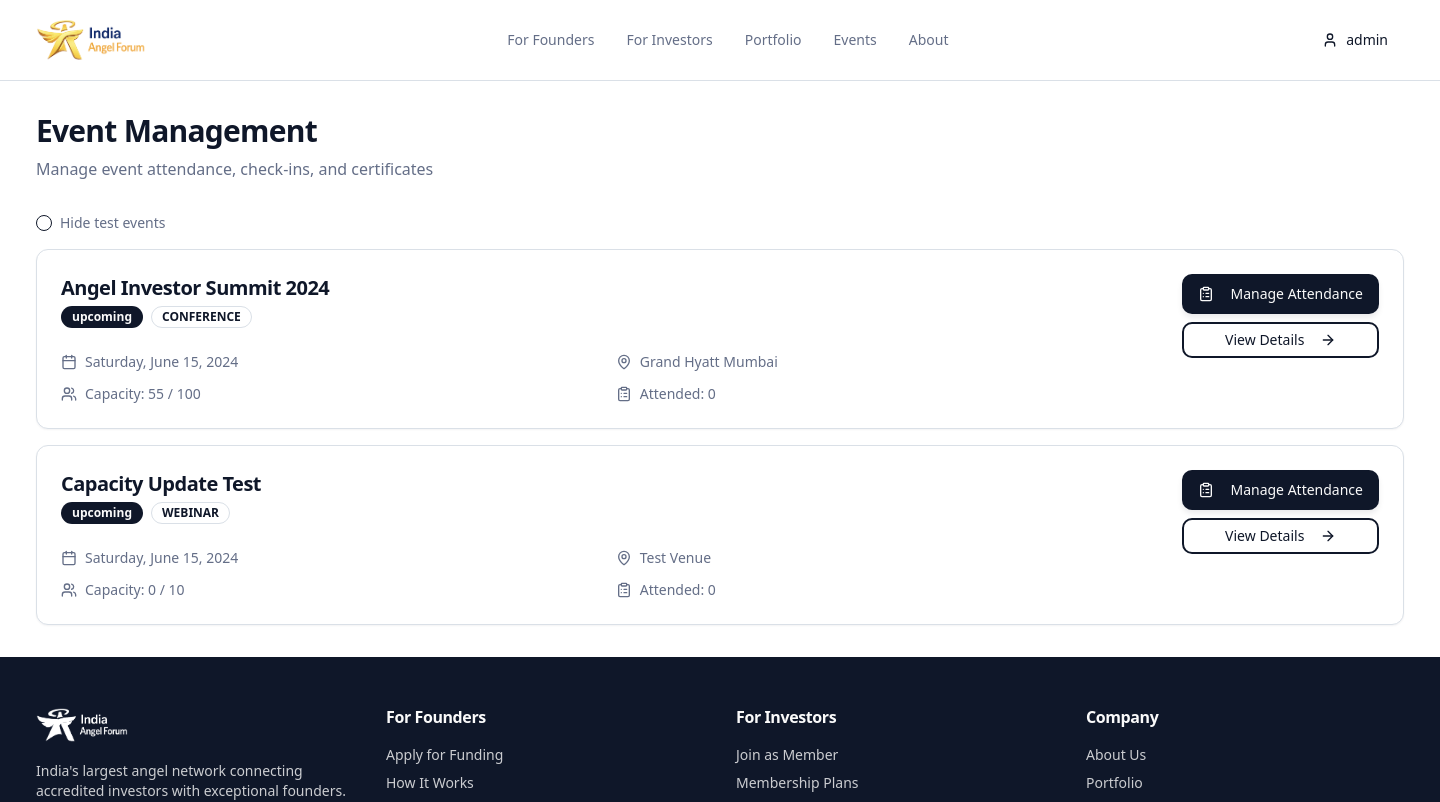
it: N3: Hide Test Events Filter › restores test events when checkbox is unchecked
The image size is (1440, 802).
Check: the heading "Capacity Update Test" is shown, box x1=61 y1=470 x2=261 y2=497
Click the checkbox named "hide test events".
click(44, 223)  # box x1=36 y1=215 x2=52 y2=231
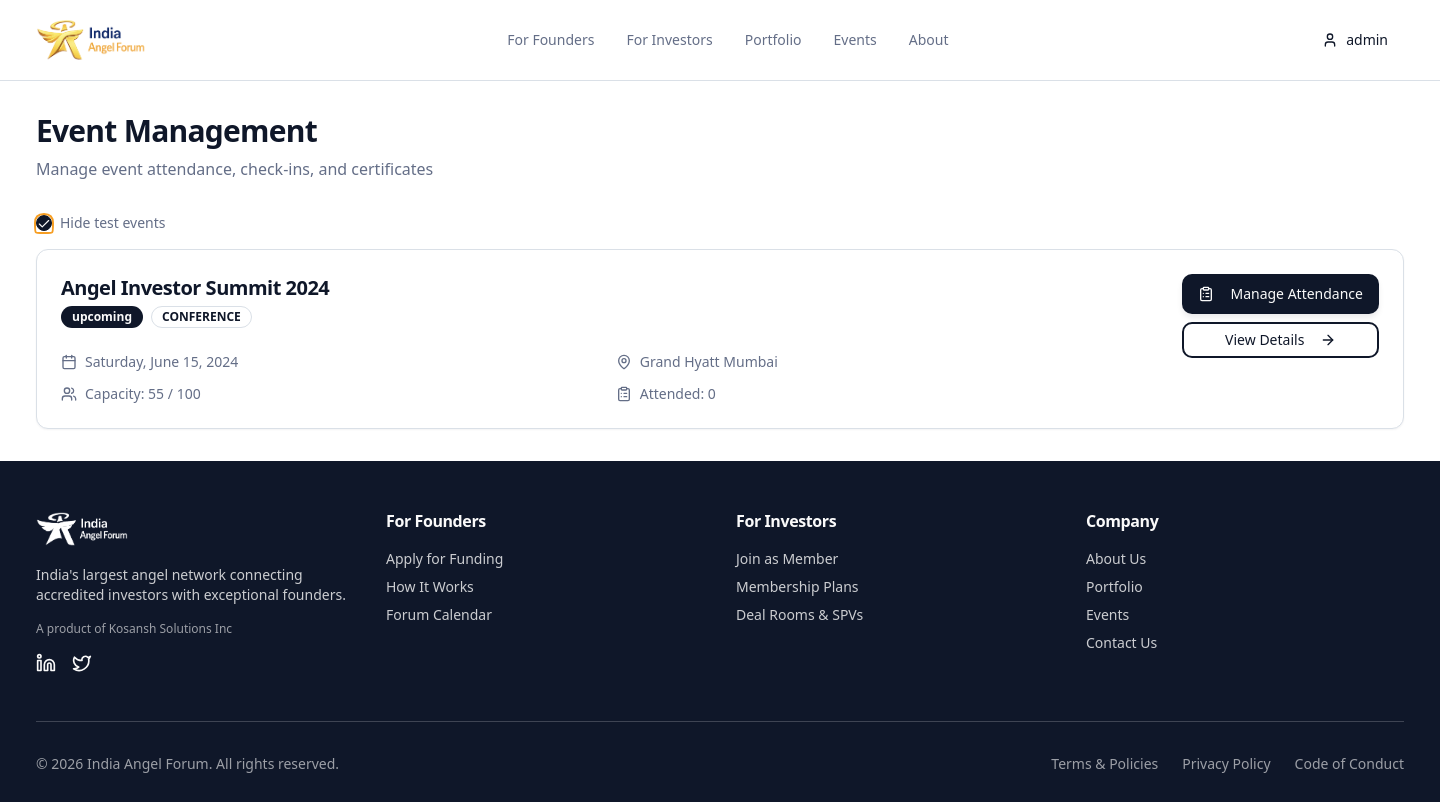
Check: the heading "Capacity Update Test" is gone
Click the checkbox named "hide test events".
click(44, 223)  # box x1=36 y1=215 x2=52 y2=231
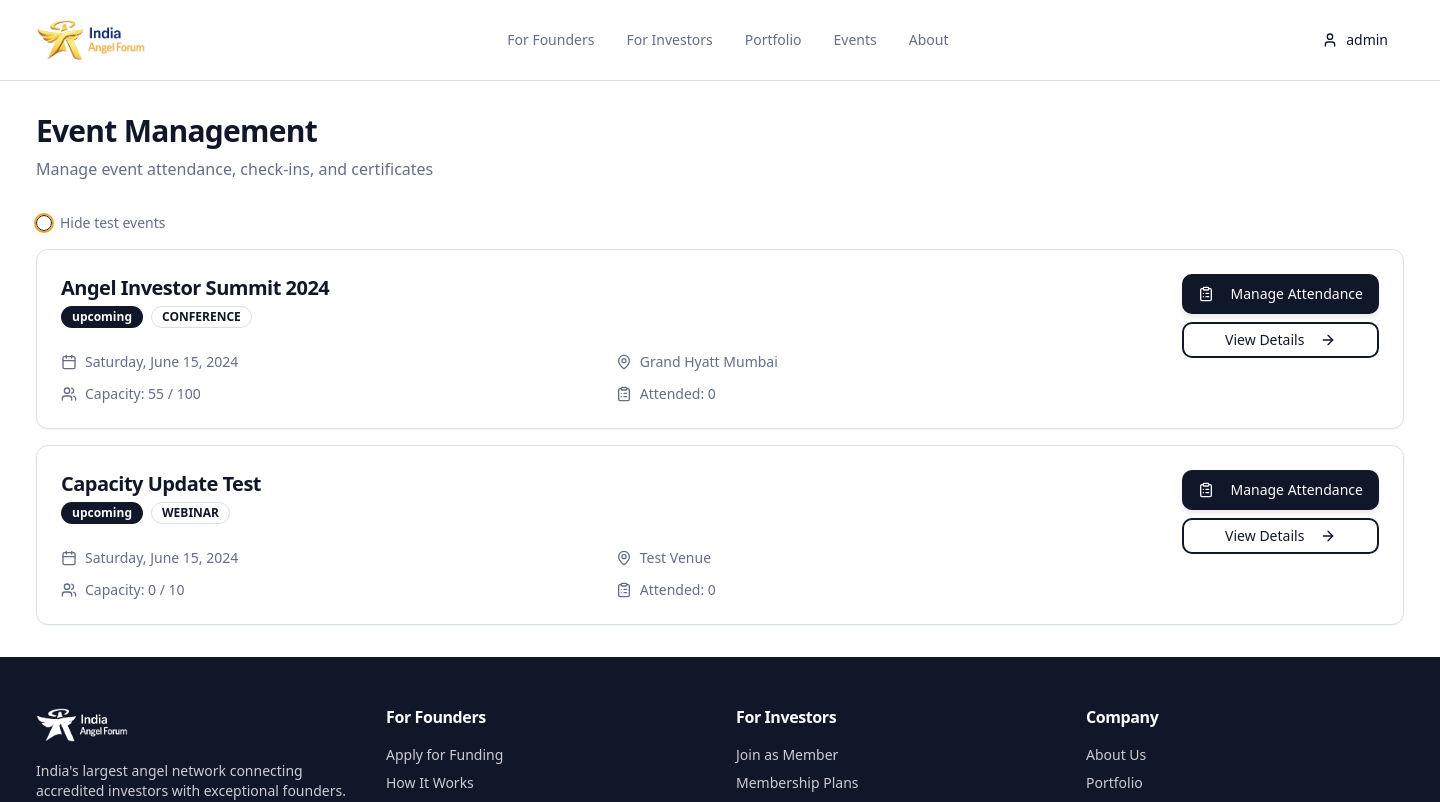
Check: the heading "Capacity Update Test" is shown, box x1=61 y1=470 x2=261 y2=497
